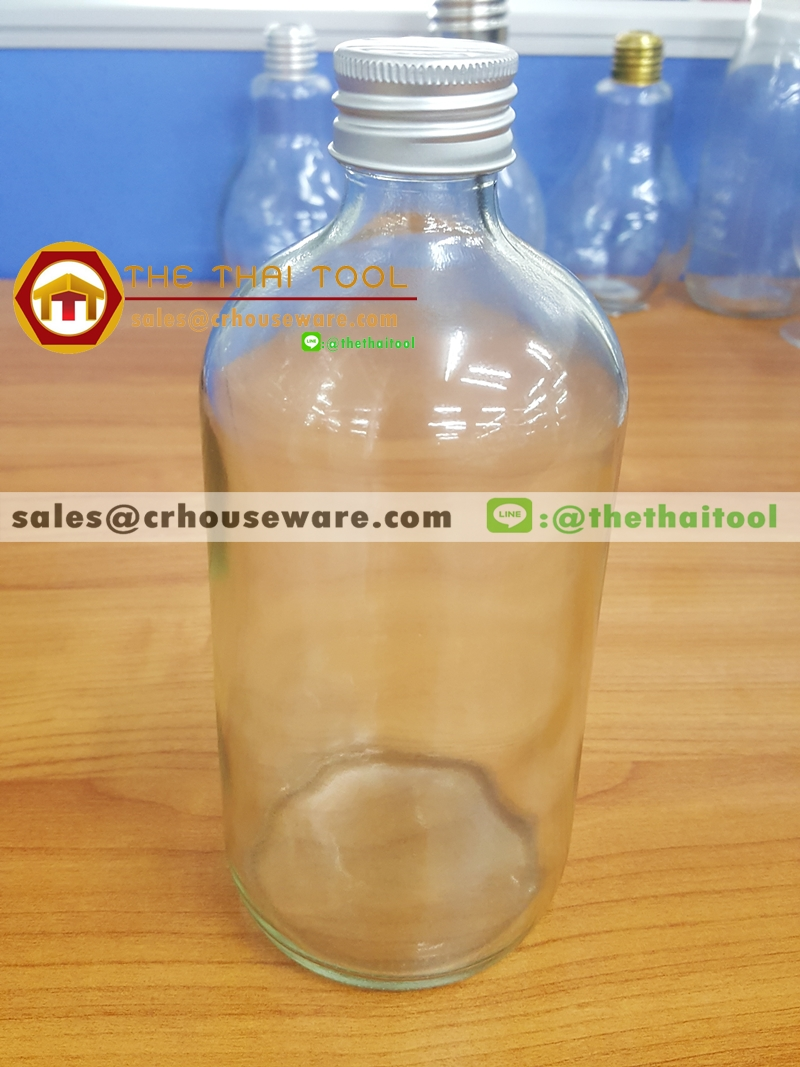glass_bottle: (171, 25, 645, 1005)
